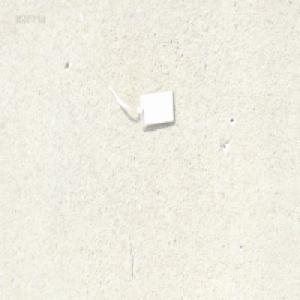LuggageTag: (107, 71, 178, 129)
